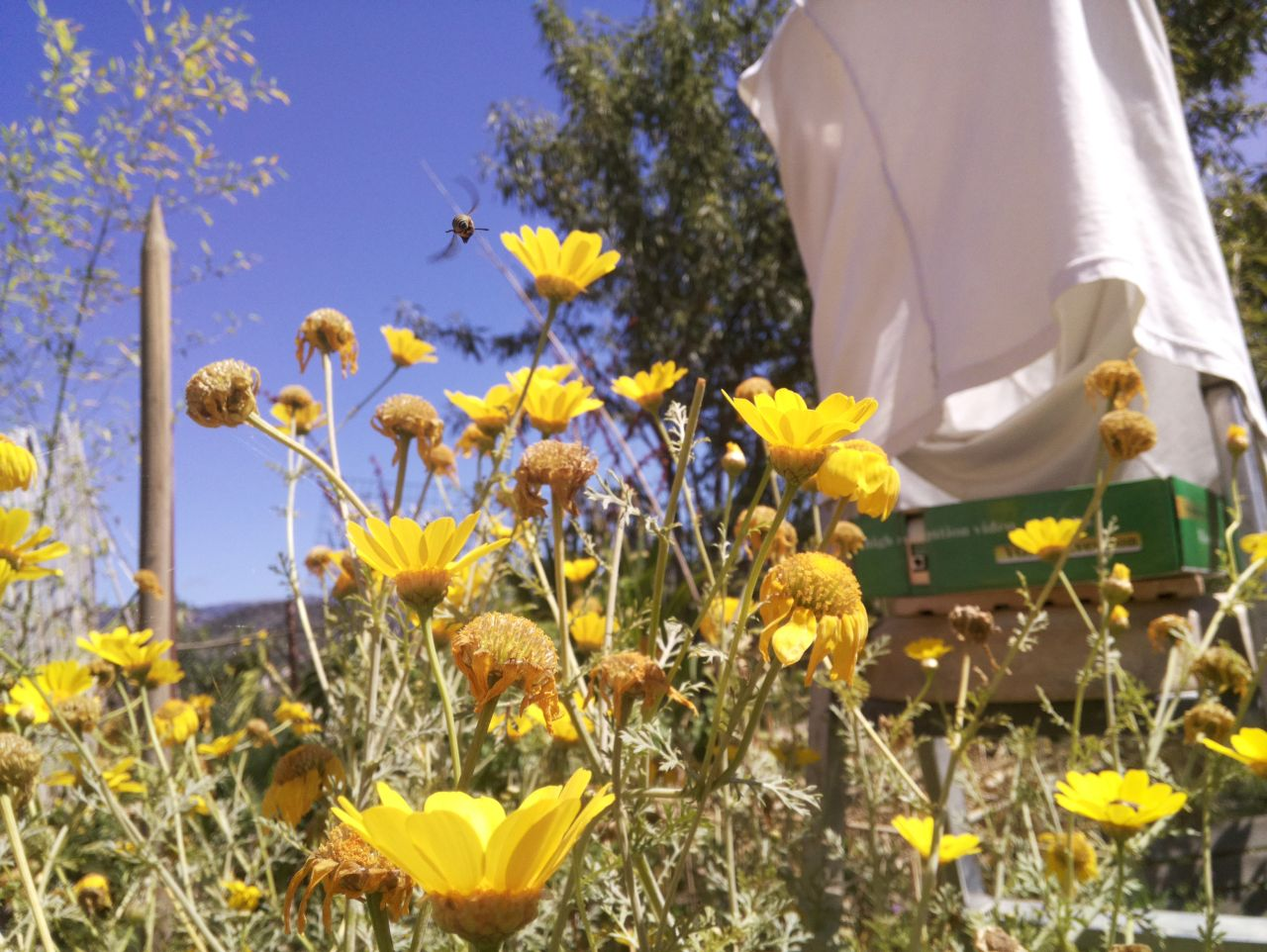Wasp: (416, 176, 498, 261)
